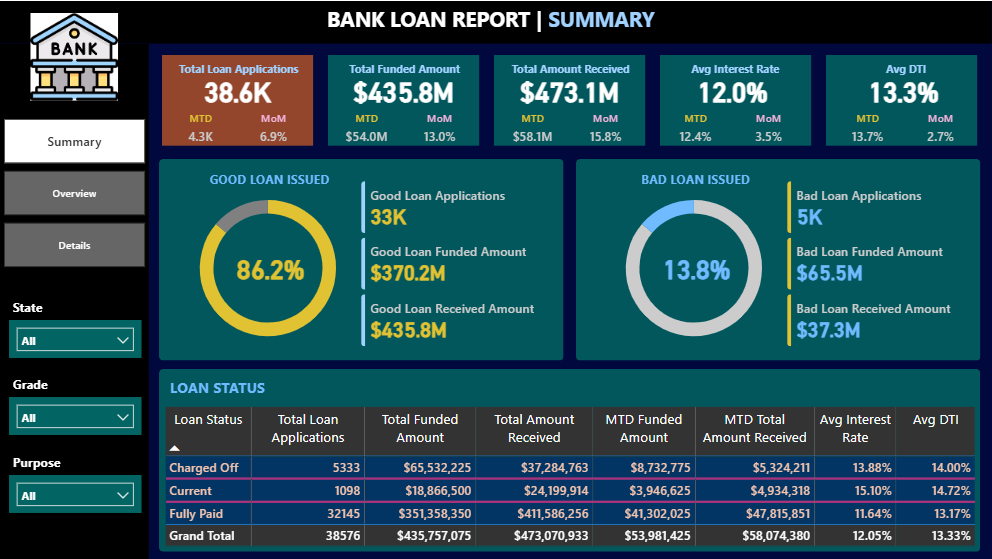

The dashboard page shown, as its layout file describes it:
{"tool":"powerbi","page":{"name":"Summary","canvas":[1280,720],"ordinal":0},"visuals":[{"type":"shape","box":[0,0,1279.5,54.9],"z":0},{"type":"shape","box":[204.9,203.9,522,260],"z":1000,"group":"g6"},{"type":"shape","box":[742.8,203.9,521.9,260.2],"z":1000,"group":"g7"},{"type":"shape","box":[205.3,474.2,1059.8,235.7],"z":1000},{"type":"shape","box":[0,54.9,192,665.1],"z":2000},{"type":"textbox","box":[416.4,0,448.2,54.9],"z":3000},{"type":"shape","box":[208.6,69.4,195.2,117.1],"z":3000,"group":"g1"},{"type":"shape","box":[637.4,69.4,195.2,117.1],"z":3000,"group":"g3"},{"type":"shape","box":[851.8,69.4,195.2,117.1],"z":3000,"group":"g4"},{"type":"shape","box":[1066.1,69.4,195.2,117.1],"z":3000,"group":"g5"},{"type":"shape","box":[423,69.8,195.2,117.1],"z":3000,"group":"g2"},{"type":"group","id":"g1","title":"Group 1","box":[208.6,69.4,195.2,124.3],"z":4000},{"type":"card","fields":{"Values":["Bank_Loan_Data.Total Loan Applications"]},"box":[221.6,78.1,169.2,73.7],"z":4000,"group":"g1"},{"type":"card","fields":{"Values":["Bank_Loan_Data.Total Amount Received"]},"box":[650.4,78.1,169.2,73.7],"z":4000,"group":"g3"},{"type":"card","fields":{"Values":["Bank_Loan_Data.Avg Interest Rate"]},"box":[860.5,78.1,169.2,73.7],"z":4000,"group":"g4"},{"type":"card","fields":{"Values":["Bank_Loan_Data.Avg DTI"]},"box":[1082,78.1,169.2,73.7],"z":4000,"group":"g5"},{"type":"card","fields":{"Values":["Bank_Loan_Data.Total Funded Amount"]},"box":[436,78.5,169.2,73.7],"z":4000,"group":"g2"},{"type":"donutChart","fields":{"Category":["Bank_Loan_Data.Good vs Bad Loan"],"Y":["Bank_Loan_Data.Total Loan Applications"]},"box":[220.8,229.9,250.1,229.9],"z":4000,"group":"g6"},{"type":"donutChart","fields":{"Y":["Bank_Loan_Data.Total Loan Applications"],"Category":["Bank_Loan_Data.Good vs Bad Loan"]},"box":[770.3,229.9,250.1,229.9],"z":4000,"group":"g7"},{"type":"group","id":"g2","title":"Group 1","box":[423,69.8,195.2,124.3],"z":5000},{"type":"textbox","box":[221.6,72.3,172,37.6],"z":5000,"group":"g1"},{"type":"textbox","box":[650.4,72.3,172,37.6],"z":5000,"group":"g3"},{"type":"textbox","box":[860.5,72.3,172,37.6],"z":5000,"group":"g4"},{"type":"textbox","box":[1082,72.3,172,37.6],"z":5000,"group":"g5"},{"type":"textbox","box":[436,72.7,172,37.6],"z":5000,"group":"g2"},{"type":"group","id":"g3","title":"Group 1","box":[637.4,69.4,195.2,124.3],"z":6000},{"type":"card","title":"MTD","fields":{"Values":["Bank_Loan_Data.MTD Loan Applications"]},"box":[214.4,141.7,89.6,52],"z":6000,"group":"g1"},{"type":"card","title":"MTD","fields":{"Values":["Bank_Loan_Data.MTD Amount Received"]},"box":[643.2,141.7,89.6,52],"z":6000,"group":"g3"},{"type":"card","title":"MTD","fields":{"Values":["Bank_Loan_Data.MTD Avg Int Rate"]},"box":[853.2,141.7,89.6,52],"z":6000,"group":"g4"},{"type":"card","title":"MTD","fields":{"Values":["Bank_Loan_Data.MTD Avg DTI"]},"box":[1074.8,141.7,89.6,52],"z":6000,"group":"g5"},{"type":"card","title":"MTD","fields":{"Values":["Bank_Loan_Data.MTD Funded Amount"]},"box":[428.8,142.1,89.6,52],"z":6000,"group":"g2"},{"type":"group","id":"g4","title":"Group 1","box":[851.8,69.4,195.2,124.3],"z":7000},{"type":"card","title":"MoM","fields":{"Values":["Bank_Loan_Data.MoM Loan Applications"]},"box":[308.4,141.7,89.6,52],"z":7000,"group":"g1"},{"type":"card","title":"MoM","fields":{"Values":["Bank_Loan_Data.MoM Total Amount Received"]},"box":[737.2,141.7,89.6,52],"z":7000,"group":"g3"},{"type":"card","title":"MoM","fields":{"Values":["Bank_Loan_Data.MoM Avg Int Rate"]},"box":[947.2,141.7,89.6,52],"z":7000,"group":"g4"},{"type":"card","title":"MoM","fields":{"Values":["Bank_Loan_Data.MoM Avg DTI"]},"box":[1168.8,141.7,89.6,52],"z":7000,"group":"g5"},{"type":"card","title":"MoM","fields":{"Values":["Bank_Loan_Data.MoM Total Funded Amount"]},"box":[522.8,142.1,89.6,52],"z":7000,"group":"g2"},{"type":"card","fields":{"Values":["Bank_Loan_Data.Good Loan %"]},"box":[264.2,306.6,169.2,73.7],"z":7000,"group":"g6"},{"type":"card","fields":{"Values":["Bank_Loan_Data.Bad Loan %"]},"box":[813.6,306.6,169.2,73.7],"z":7000,"group":"g7"},{"type":"group","id":"g5","title":"Group 1","box":[1066.1,69.4,195.2,124.3],"z":8000},{"type":"textbox","box":[261.3,214,172,37.6],"z":8000,"group":"g6"},{"type":"textbox","box":[810.8,214,172,37.6],"z":8000,"group":"g7"},{"type":"textbox","box":[11.6,378.8,63.6,39],"z":9000,"group":"g8"},{"type":"textbox","box":[11.6,478.6,63.6,39],"z":9000,"group":"g10"},{"type":"textbox","box":[195.2,481.4,172,37.6],"z":9000},{"type":"textbox","box":[11.6,580,88.2,39],"z":9000,"group":"g9"},{"type":"group","id":"g6","title":"Group 2","box":[204.9,203.9,522,260],"z":10000},{"type":"group","id":"g7","title":"Group 2","box":[742.8,203.9,533.5,260.2],"z":11000},{"type":"tableEx","fields":{"Values":["Bank_Loan_Data.loan_status","Bank_Loan_Data.Total Loan Applications","Bank_Loan_Data.Total Funded Amount","Bank_Loan_Data.Total Amount Received","Bank_Loan_Data.MTD Funded Amount","Bank_Loan_Data.MTD Total Amount Received","Bank_Loan_Data.Avg Interest Rate","Bank_Loan_Data.Avg DTI"]},"box":[208.2,519,1056.9,201],"z":12000},{"type":"cardVisual","fields":{"Data":["Bank_Loan_Data.Good Loan Applications","Bank_Loan_Data.Good Loan Funded Amount","Bank_Loan_Data.Good Loan Received Amount"]},"box":[449.2,215.5,277.6,247.2],"z":13000,"group":"g6"},{"type":"cardVisual","fields":{"Data":["Bank_Loan_Data.Bad Loan Applications","Bank_Loan_Data.Bad Loan Funded Amount","Bank_Loan_Data.Bad Loan Received Amount"]},"box":[998.7,215.5,277.6,247.2],"z":13000,"group":"g7"},{"type":"group","id":"g8","title":"Group 3","box":[11.6,378.8,170.6,81],"z":13000},{"type":"slicer","fields":{"Values":["Bank_Loan_Data.address_state"]},"box":[11.6,410.6,170.6,49.2],"z":14000,"group":"g8"},{"type":"slicer","fields":{"Values":["Bank_Loan_Data.grade"]},"box":[11.6,510.4,170.6,49.2],"z":14000,"group":"g10"},{"type":"group","id":"g9","title":"Group 3","box":[11.6,580,170.6,80.8],"z":14000},{"type":"slicer","fields":{"Values":["Bank_Loan_Data.purpose"]},"box":[11.6,611.6,170.6,49.2],"z":14000,"group":"g9"},{"type":"group","id":"g10","title":"Group 4","box":[11.6,478.6,170.6,81],"z":15000},{"type":"pageNavigator","box":[5.8,151.8,182.2,192.3],"z":16000},{"type":"image","box":[10.1,15.9,170.6,112.8],"z":17000}]}

Visuals, with their boxes in screenshot pixels (x1, y1, x2, y2), scaled from the page's 1280x720 canvas onto the 992x559 screenshot:
shape: 0/0/991/43
shape: 159/158/563/360
shape: 576/158/980/360
shape: 159/368/980/551
shape: 0/43/149/558
textbox: 323/0/670/43
shape: 162/54/313/145
shape: 494/54/645/145
shape: 660/54/811/145
shape: 826/54/978/145
shape: 328/54/479/145
"Group 1" group: 162/54/313/150
card - Bank_Loan_Data.Total Loan Applications: 172/61/303/118
card - Bank_Loan_Data.Total Amount Received: 504/61/635/118
card - Bank_Loan_Data.Avg Interest Rate: 667/61/798/118
card - Bank_Loan_Data.Avg DTI: 839/61/970/118
card - Bank_Loan_Data.Total Funded Amount: 338/61/469/118
donutChart - Bank_Loan_Data.Good vs Bad Loan x Bank_Loan_Data.Total Loan Applications: 171/178/365/357
donutChart - Bank_Loan_Data.Total Loan Applications x Bank_Loan_Data.Good vs Bad Loan: 597/178/791/357
"Group 1" group: 328/54/479/151
textbox: 172/56/305/85
textbox: 504/56/637/85
textbox: 667/56/800/85
textbox: 839/56/972/85
textbox: 338/56/471/86
"Group 1" group: 494/54/645/150
"MTD" card: 166/110/236/150
"MTD" card: 498/110/568/150
"MTD" card: 661/110/731/150
"MTD" card: 833/110/902/150
"MTD" card: 332/110/402/151
"Group 1" group: 660/54/811/150
"MoM" card: 239/110/308/150
"MoM" card: 571/110/641/150
"MoM" card: 734/110/804/150
"MoM" card: 906/110/975/150
"MoM" card: 405/110/475/151
card - Bank_Loan_Data.Good Loan %: 205/238/336/295
card - Bank_Loan_Data.Bad Loan %: 631/238/762/295
"Group 1" group: 826/54/978/150
textbox: 203/166/336/195
textbox: 628/166/762/195
textbox: 9/294/58/324
textbox: 9/372/58/402
textbox: 151/374/285/403
textbox: 9/450/77/481
"Group 2" group: 159/158/563/360
"Group 2" group: 576/158/989/360
tableEx - Bank_Loan_Data.loan_status x Bank_Loan_Data.Total Loan Applications: 161/403/980/558
cardVisual - Bank_Loan_Data.Good Loan Applications x Bank_Loan_Data.Good Loan Funded Amount: 348/167/563/359
cardVisual - Bank_Loan_Data.Bad Loan Applications x Bank_Loan_Data.Bad Loan Funded Amount: 774/167/989/359
"Group 3" group: 9/294/141/357
slicer - Bank_Loan_Data.address_state: 9/319/141/357
slicer - Bank_Loan_Data.grade: 9/396/141/434
"Group 3" group: 9/450/141/513
slicer - Bank_Loan_Data.purpose: 9/475/141/513
"Group 4" group: 9/372/141/434
pageNavigator: 4/118/146/267
image: 8/12/140/100
